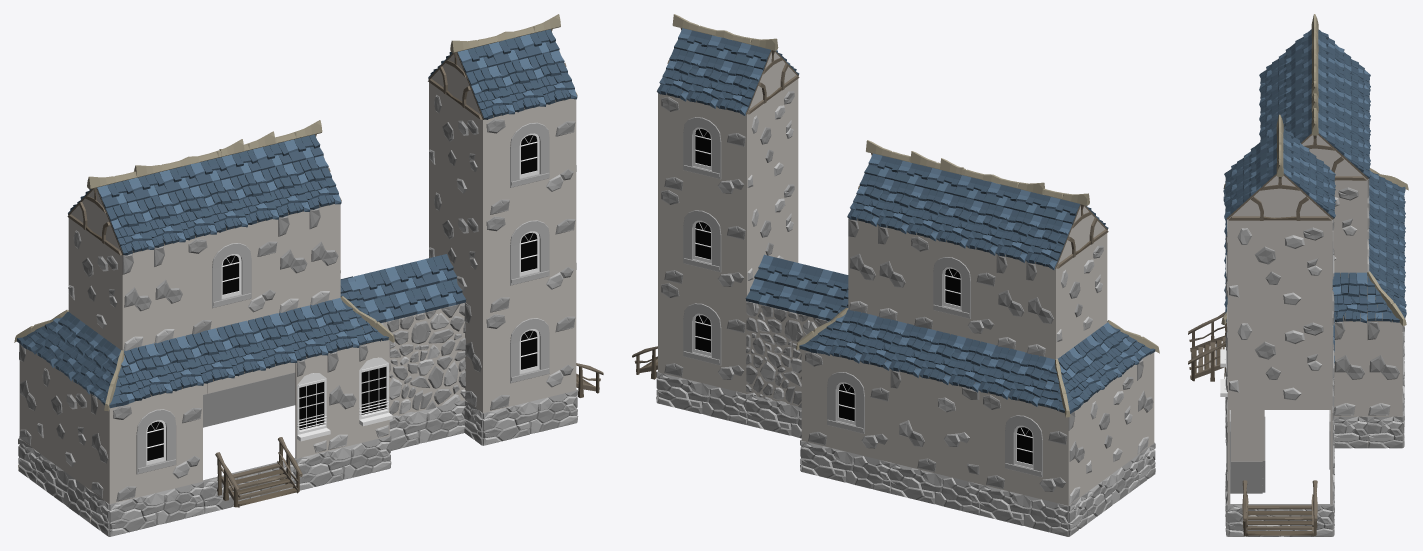
Rendered from HOUSE_10_PARTS.fbx.
The picture shows the model from 3 angles, left to right: view 1: azimuth 30°, elevation 25°; view 2: azimuth 150°, elevation 25°; view 3: azimuth 270°, elevation 25°; orthographic projection. The views are drawn at different scales.
Parts seen in each view (by area): view 1: WINDOW_07_18, WINDOW_07_19, WINDOW_07_20, WINDOW_07_13, WINDOW_07_17, WALL_02_2, WALL_06_2, WALL_06_4, WALL_06_7, WALL_06_3, WINDOW_01_4, FOUNDATION_01_2 (+56 smaller); view 2: WALL_05_2, WINDOW_07_15, WINDOW_07_21, WINDOW_07_14, WINDOW_07_22, WINDOW_07_23, WINDOW_07_16, WALL_02_3, WALL_06_4, WALL_06_2, WALL_06_7, WALL_06_3 (+52 smaller); view 3: WALL_06_5, WALL_06_6, WALL_03_8, WALL_03_7, WALL_06_8, STAIRS_01_3, FOUNDATION_01_7, ROOF_base_83, WALL_03_5, STAIRS_01_2, ROOF_CORNER_OUT_8, FOUNDATION_03_4 (+43 smaller).
Part boxes in pixels (x1=…): WINDOW_07_18: x1=482, y1=293, x2=576, y2=412; WINDOW_07_19: x1=483, y1=195, x2=576, y2=314; WINDOW_07_20: x1=483, y1=98, x2=576, y2=217; WINDOW_07_13: x1=109, y1=385, x2=202, y2=503; WINDOW_07_17: x1=185, y1=219, x2=278, y2=336; WALL_02_2: x1=381, y1=303, x2=465, y2=418; WALL_06_2: x1=37, y1=356, x2=91, y2=490; WALL_06_4: x1=429, y1=82, x2=484, y2=217; WALL_06_7: x1=68, y1=218, x2=122, y2=350; WALL_06_3: x1=429, y1=178, x2=484, y2=315; WINDOW_01_4: x1=295, y1=355, x2=330, y2=458; FOUNDATION_01_2: x1=109, y1=481, x2=203, y2=536; WALL_05_2: x1=890, y1=369, x2=979, y2=483; WINDOW_07_15: x1=801, y1=349, x2=890, y2=462; WINDOW_07_21: x1=658, y1=279, x2=746, y2=393; WINDOW_07_14: x1=979, y1=391, x2=1069, y2=505; WINDOW_07_22: x1=658, y1=186, x2=747, y2=300; WINDOW_07_23: x1=658, y1=93, x2=747, y2=207; WINDOW_07_16: x1=907, y1=233, x2=996, y2=345; WALL_02_3: x1=746, y1=301, x2=827, y2=407; WALL_06_4: x1=745, y1=79, x2=798, y2=207; WALL_06_2: x1=1085, y1=365, x2=1136, y2=492; WALL_06_7: x1=1054, y1=233, x2=1107, y2=359; WALL_06_3: x1=745, y1=170, x2=798, y2=300; WALL_06_5: x1=1227, y1=315, x2=1332, y2=409; WALL_06_6: x1=1227, y1=220, x2=1332, y2=314; WALL_03_8: x1=1367, y1=321, x2=1402, y2=416; WALL_03_7: x1=1334, y1=321, x2=1367, y2=416; WALL_06_8: x1=1333, y1=180, x2=1367, y2=273; STAIRS_01_3: x1=1242, y1=480, x2=1317, y2=536; FOUNDATION_01_7: x1=1227, y1=504, x2=1332, y2=536; ROOF_base_83: x1=1332, y1=272, x2=1367, y2=323; WALL_03_5: x1=1231, y1=410, x2=1262, y2=461; STAIRS_01_2: x1=1188, y1=312, x2=1226, y2=381; ROOF_CORNER_OUT_8: x1=1367, y1=271, x2=1406, y2=326; FOUNDATION_03_4: x1=1367, y1=416, x2=1402, y2=448.
Size of the model in its own units: 1632 by 1186 by 632.
